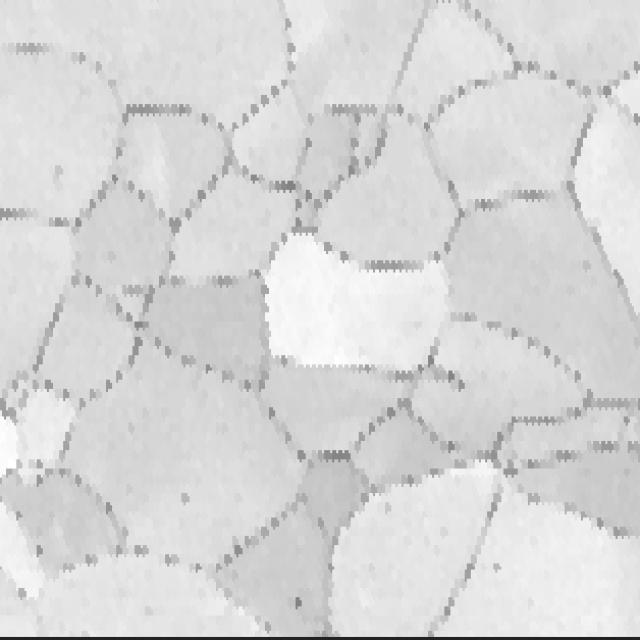good_void: (98, 243, 120, 270), (47, 160, 66, 190), (177, 488, 197, 510), (290, 591, 307, 612), (491, 558, 504, 578), (579, 257, 595, 273)
